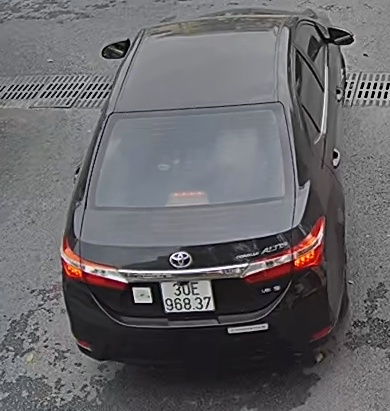vehicle plate: (156, 277, 218, 319)
